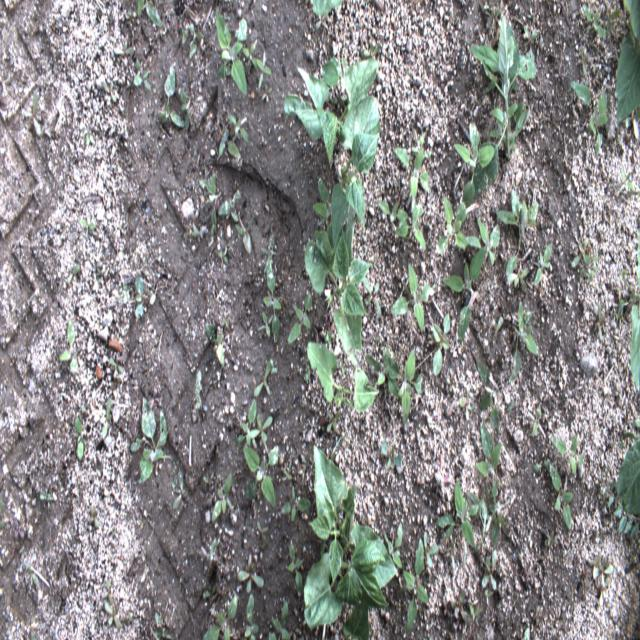crop: (303, 434, 397, 628), (284, 56, 378, 166), (304, 228, 372, 366), (331, 96, 380, 270), (306, 342, 379, 412), (615, 0, 639, 126), (616, 417, 640, 517), (628, 227, 639, 393), (314, 177, 336, 250), (342, 592, 370, 638), (312, 0, 343, 17)
weed: (469, 14, 538, 192), (441, 246, 486, 345), (495, 188, 540, 276), (435, 480, 479, 569), (452, 120, 494, 210), (568, 78, 609, 160), (129, 397, 167, 485), (390, 262, 435, 332), (600, 466, 640, 539), (476, 362, 514, 436), (399, 537, 428, 632), (215, 11, 247, 97), (509, 300, 540, 383), (242, 444, 279, 509), (396, 348, 425, 425), (461, 218, 501, 269), (394, 146, 431, 198), (156, 63, 186, 127), (476, 422, 501, 498), (364, 346, 402, 396), (435, 198, 468, 255), (465, 489, 492, 558), (261, 258, 282, 345), (200, 594, 238, 639), (550, 465, 574, 532), (198, 170, 222, 233), (394, 203, 426, 250), (484, 487, 508, 548), (551, 434, 583, 478), (286, 292, 312, 344), (431, 311, 451, 376), (234, 398, 258, 450), (280, 484, 311, 523), (260, 229, 286, 274), (58, 318, 78, 376), (237, 554, 264, 594), (211, 473, 232, 521), (22, 93, 42, 142), (532, 242, 553, 288), (267, 600, 291, 639), (582, 3, 607, 40), (287, 543, 305, 594), (182, 16, 203, 59), (205, 325, 226, 367), (249, 412, 273, 448), (362, 275, 382, 318), (218, 187, 242, 222), (386, 522, 404, 568), (235, 213, 255, 254), (134, 275, 153, 318), (506, 260, 530, 293), (136, 0, 165, 27), (218, 128, 241, 162), (172, 469, 190, 512), (243, 591, 259, 639), (132, 56, 152, 92), (152, 610, 176, 640), (253, 361, 273, 397), (377, 200, 408, 223), (592, 556, 614, 588), (481, 548, 497, 592), (227, 113, 249, 144), (422, 530, 439, 570), (256, 49, 272, 91), (522, 25, 536, 73), (570, 236, 591, 268), (179, 87, 193, 133), (382, 439, 402, 471), (625, 100, 640, 142), (454, 589, 471, 623), (458, 388, 475, 422), (242, 43, 261, 71), (602, 8, 620, 36), (257, 310, 274, 338), (484, 4, 501, 32), (104, 603, 121, 629), (75, 417, 85, 461), (360, 41, 380, 63), (103, 395, 113, 438), (576, 44, 589, 77), (588, 242, 598, 284), (531, 403, 543, 438), (410, 128, 426, 154), (326, 409, 342, 434), (612, 298, 627, 324), (598, 574, 610, 606), (185, 213, 200, 238), (108, 357, 125, 379), (441, 594, 456, 618), (619, 169, 634, 193), (202, 584, 218, 606), (66, 262, 80, 287), (194, 369, 202, 412), (103, 80, 117, 104), (25, 562, 39, 586), (79, 218, 95, 238), (532, 458, 552, 474), (256, 520, 270, 542), (596, 303, 604, 341), (469, 603, 482, 626), (113, 40, 134, 54), (281, 458, 293, 482), (315, 10, 328, 31), (618, 266, 630, 288), (202, 470, 214, 491), (89, 504, 99, 529), (103, 581, 113, 606), (533, 35, 544, 57), (83, 128, 95, 148), (40, 490, 52, 510), (218, 247, 228, 270), (526, 6, 537, 25), (297, 461, 307, 481), (324, 328, 335, 346), (553, 64, 567, 78), (110, 375, 123, 390), (95, 266, 105, 285), (261, 84, 271, 103), (446, 375, 456, 394), (122, 282, 131, 303), (495, 317, 503, 340), (532, 604, 540, 626), (614, 380, 622, 402), (302, 362, 310, 382), (547, 531, 557, 547), (338, 360, 348, 375), (269, 356, 276, 377), (0, 500, 5, 528), (450, 542, 455, 570), (446, 9, 452, 32), (374, 336, 382, 352), (522, 624, 530, 639), (612, 128, 620, 143), (220, 319, 230, 329), (424, 149, 433, 160), (579, 266, 587, 278), (124, 614, 133, 624), (484, 588, 494, 597), (521, 340, 527, 353), (18, 544, 25, 555), (300, 454, 306, 464), (463, 37, 468, 48), (305, 0, 315, 5), (619, 441, 625, 448), (483, 4, 489, 10)
